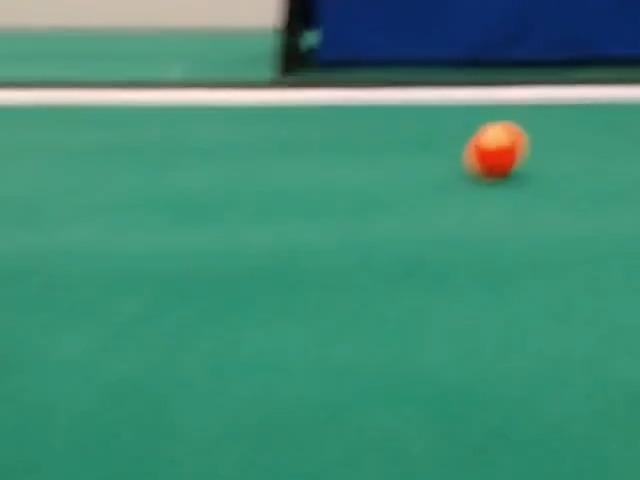Ball: (463, 121, 528, 178)
